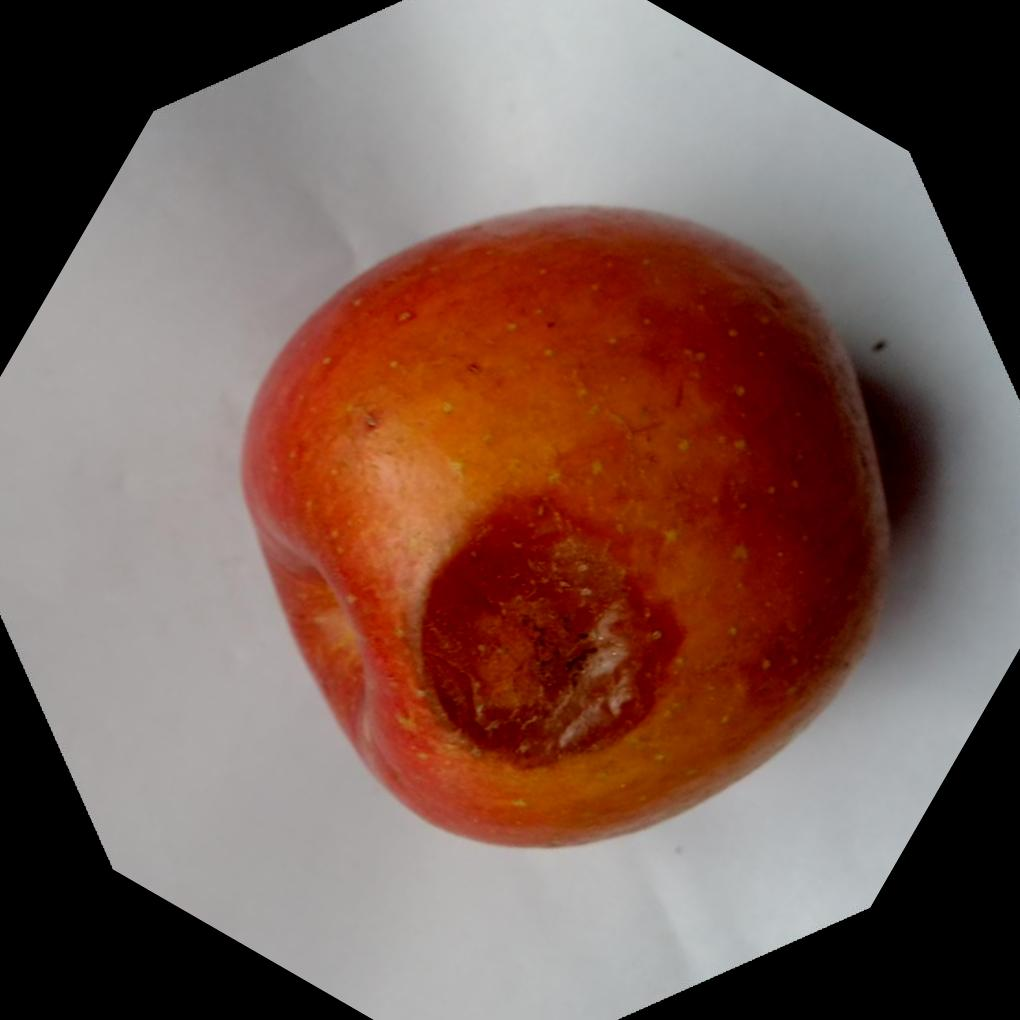FreshOrange: (236, 202, 890, 848)
